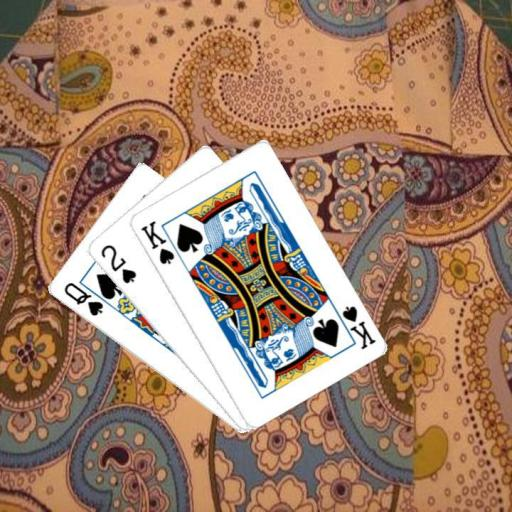2S: (97, 241, 138, 285)
KS: (330, 303, 377, 352), (137, 218, 176, 266)
QS: (61, 279, 105, 318)
